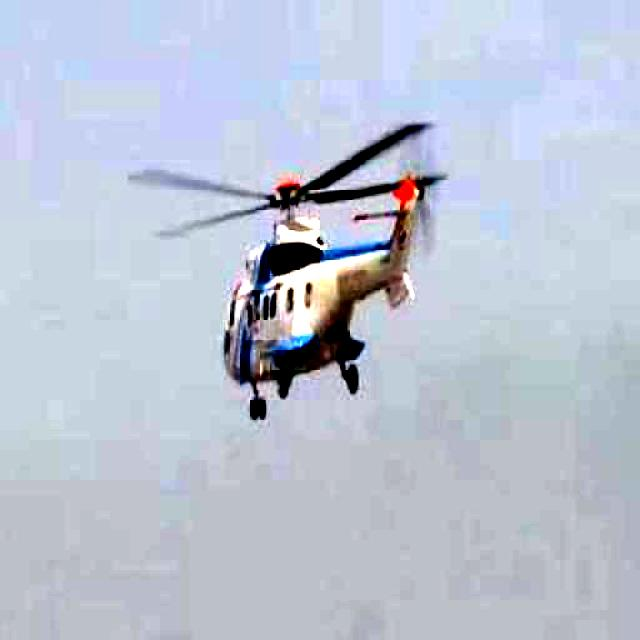drone: (98, 100, 509, 430)
